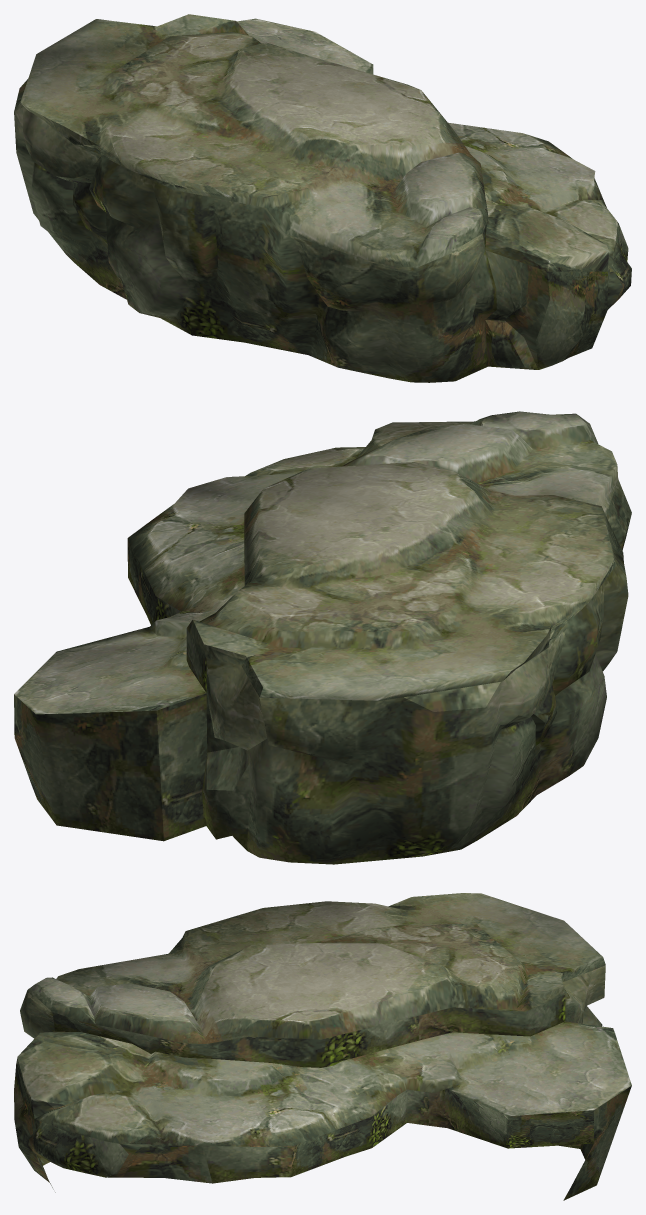
The model's file is Item_3002_shitou_05.FBX.
The picture shows the model from 3 angles, top to bottom: view 1: azimuth 30°, elevation 25°; view 2: azimuth 150°, elevation 25°; view 3: azimuth 270°, elevation 25°; orthographic projection. The views are drawn at different scales.
Parts seen in each view (by area): view 1: Item_3002_shitou_05; view 2: Item_3002_shitou_05; view 3: Item_3002_shitou_05.
Part boxes in pixels (x1=…): Item_3002_shitou_05: x1=14, y1=14, x2=631, y2=382; Item_3002_shitou_05: x1=14, y1=411, x2=631, y2=864; Item_3002_shitou_05: x1=14, y1=893, x2=631, y2=1200.
Size of the model in its own units: 283 by 116 by 382.
